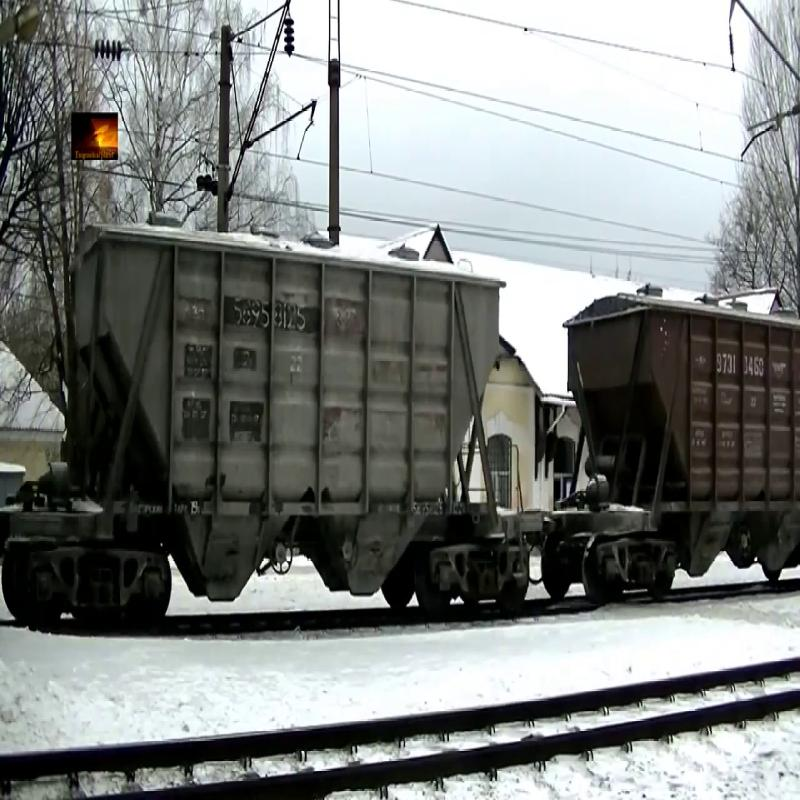train: (69, 220, 543, 618), (556, 282, 799, 621)
